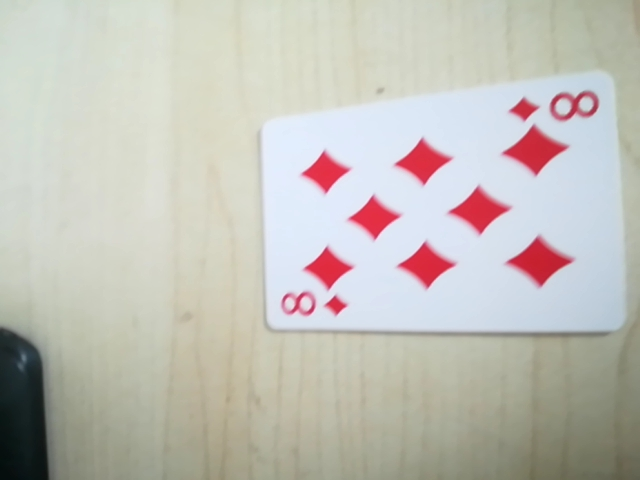fk 8: (508, 82, 600, 131), (278, 286, 352, 329)
